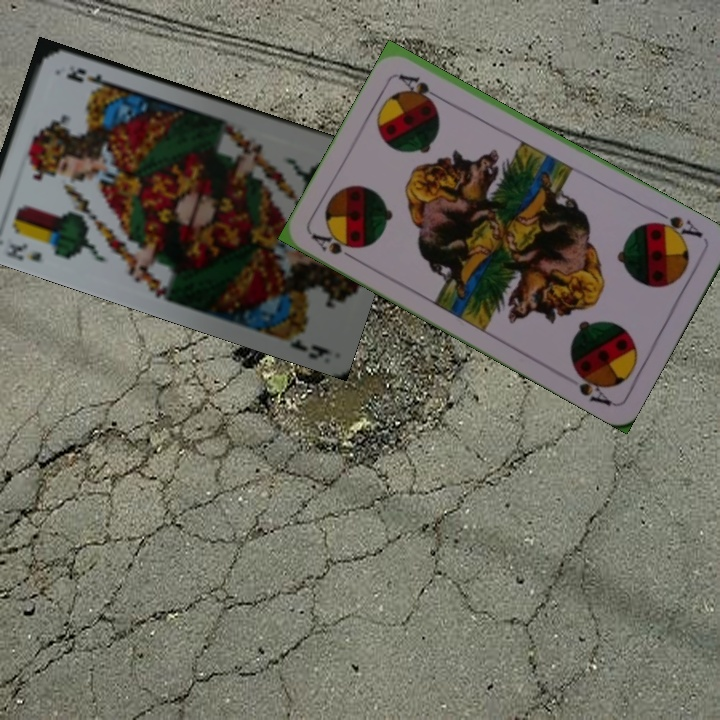EK: (1, 238, 44, 264)
SA: (307, 227, 364, 265), (648, 207, 705, 244)
